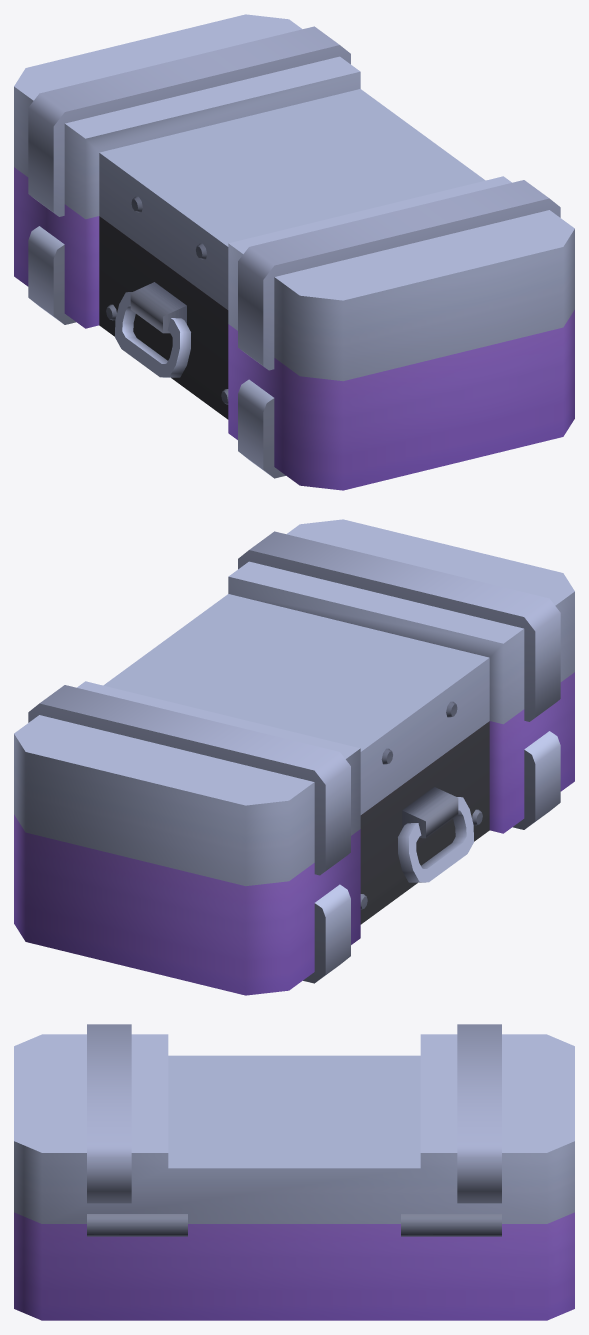
Rendered from crate-medium.glb.
3 views of the same model, one above another, from view 1: azimuth 30°, elevation 25°; view 2: azimuth 150°, elevation 25°; view 3: azimuth 270°, elevation 25° (orthographic). The views are drawn at different scales.
Visible parts, largest first — view 1: lid, crate-medium; view 2: lid, crate-medium; view 3: lid, crate-medium.
Boxes of the visible parts, x1,y1,x2,y2 form: lid: [14, 14, 574, 381]; crate-medium: [14, 167, 574, 490]; lid: [14, 519, 574, 886]; crate-medium: [14, 672, 574, 995]; lid: [14, 1024, 574, 1223]; crate-medium: [14, 1212, 574, 1320].
Size of the model in its own units: 0.5495 by 0.37 by 1.
Materials: 1 (1 with a texture image).
